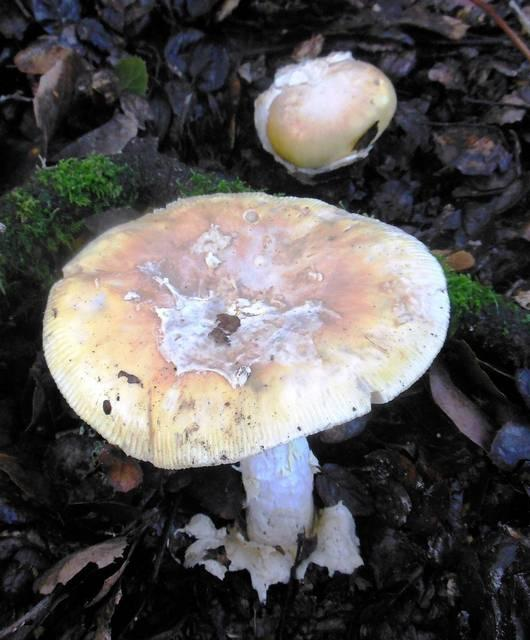Edible Mushroom: (40, 188, 451, 593), (252, 49, 397, 182)
